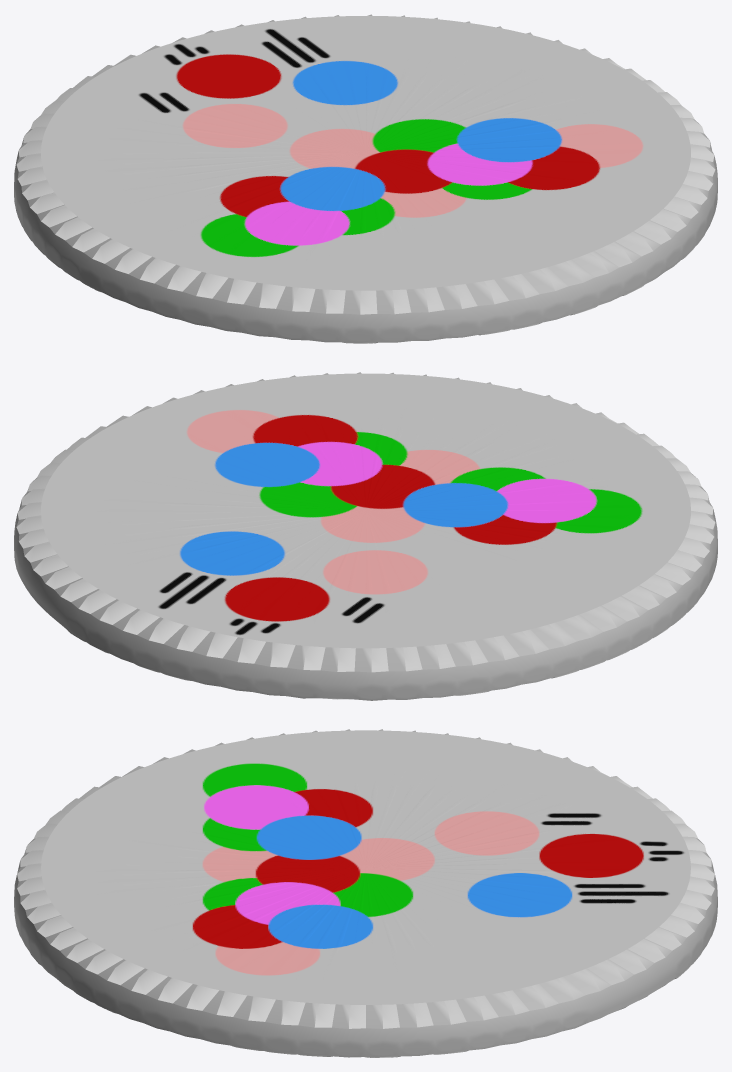
The model's file is gumgum.obj.
The picture shows the model from 3 angles, top to bottom: view 1: azimuth 30°, elevation 25°; view 2: azimuth 150°, elevation 25°; view 3: azimuth 270°, elevation 25°; orthographic projection.
Parts seen in each view (by area): view 1: Cylinder; view 2: Cylinder; view 3: Cylinder.
Boxes of the visible parts, x1,y1,x2,y2 form: Cylinder: [14, 14, 717, 343]; Cylinder: [14, 372, 717, 700]; Cylinder: [14, 729, 717, 1057].
Bounding box in the file's own units: 2 × 0.1305 × 2.
Materials: 1 (1 with a texture image).
